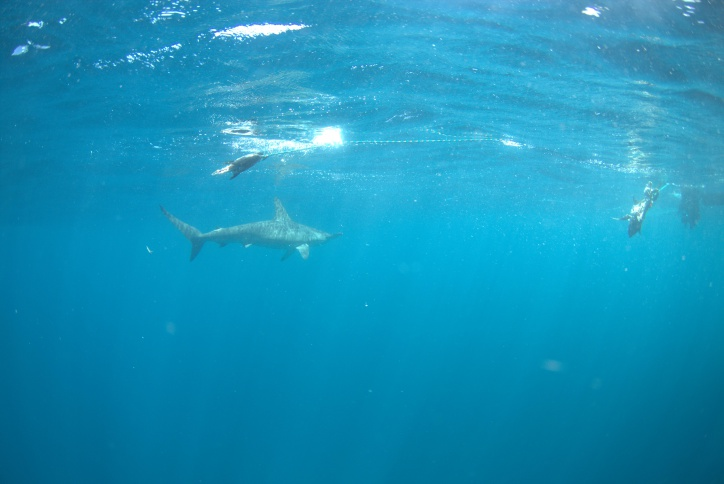Hammer: (150, 202, 365, 280)
